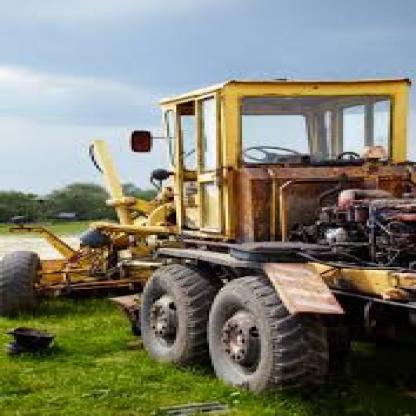bull_dozer/loader/grader: (12, 67, 414, 387)
